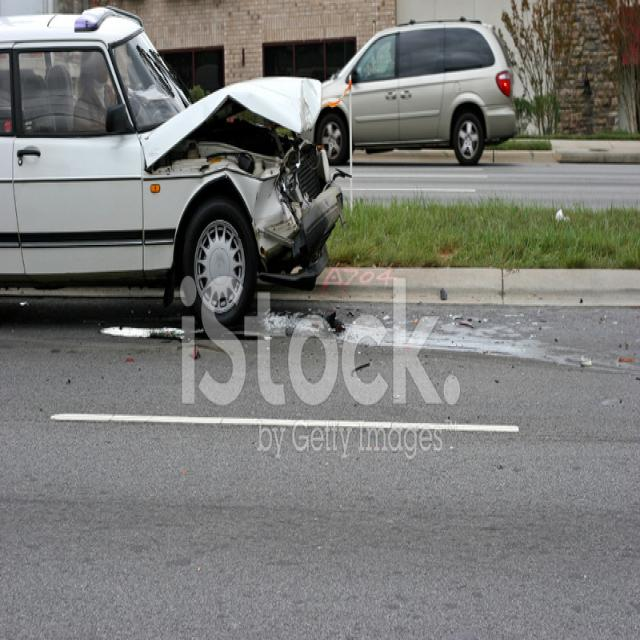crush: (139, 77, 352, 280)
